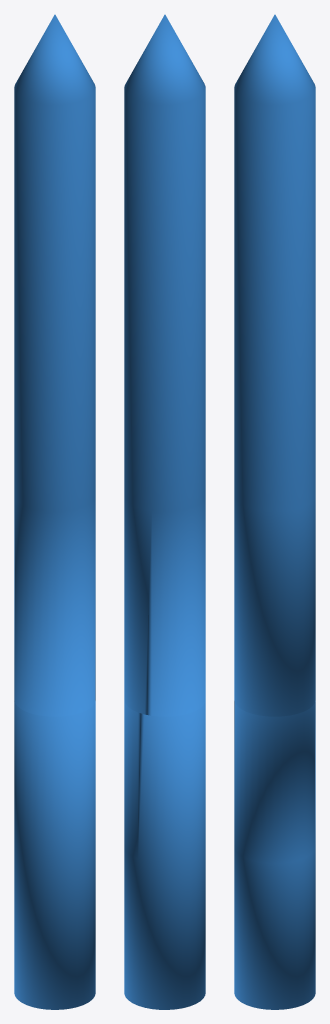
Rendered from 3dArrow.fbx.
3 renders of one model, left to right at view 1: azimuth 90°, elevation 25°; view 2: azimuth 150°, elevation 25°; view 3: azimuth 270°, elevation 25°, orthographic.
Visible parts, largest first — view 1: Cone; view 2: Cone; view 3: Cone.
Part boxes in pixels (x1,y1,x2,y2): Cone: [14, 14, 95, 1009]; Cone: [124, 14, 205, 1009]; Cone: [234, 14, 315, 1009].
Bounding box in the file's own units: 0.504 × 6.68 × 0.504.
